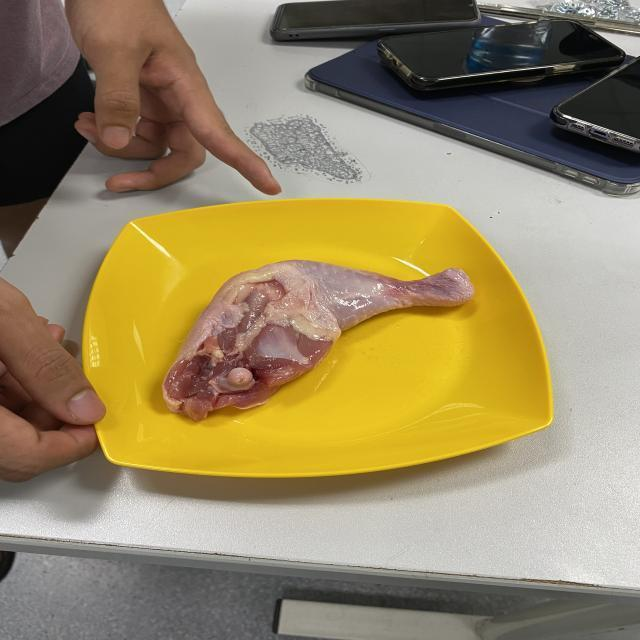quater: (148, 261, 480, 426)
